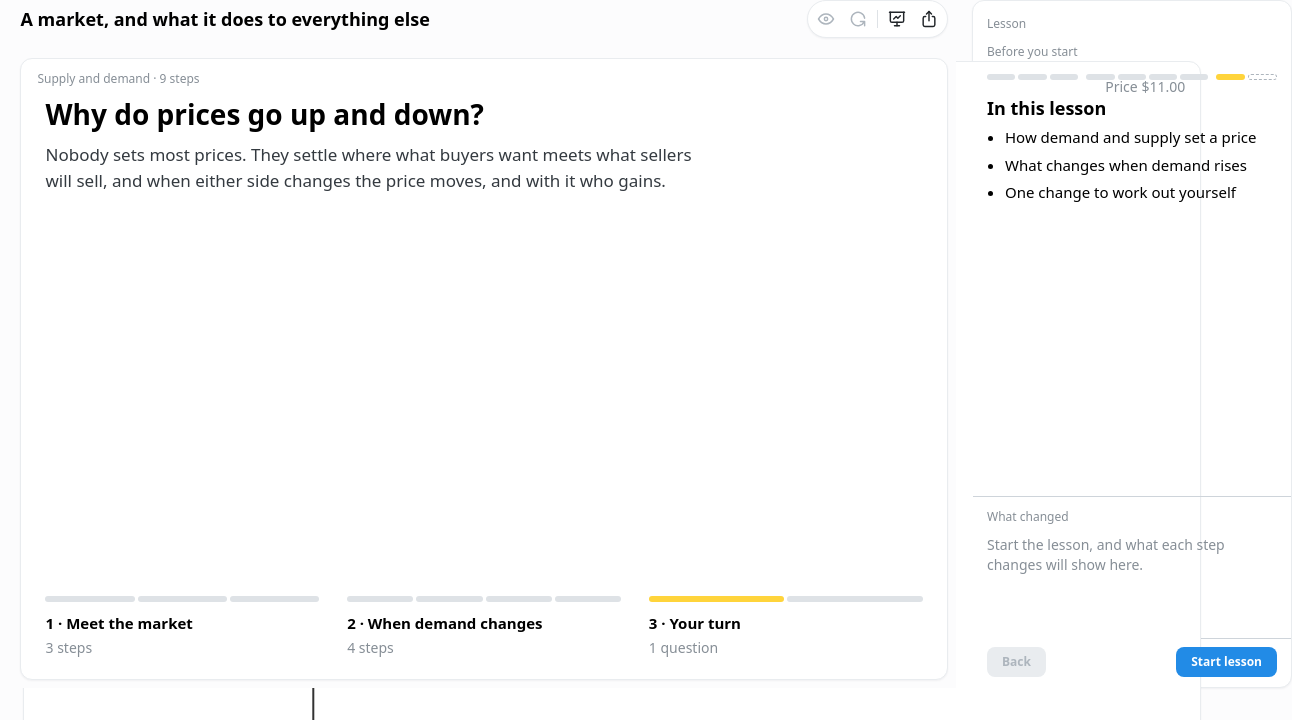
Scenario: the verdict reaches a student who cannot see the diagram › is announced from a live region that was already there
The image size is (1292, 720).
Step 1. Click the button named "Step 8 of 9: Incomes rise again" → coordinates (1231, 77), box top-left (1216, 67), bottom-right (1245, 87)
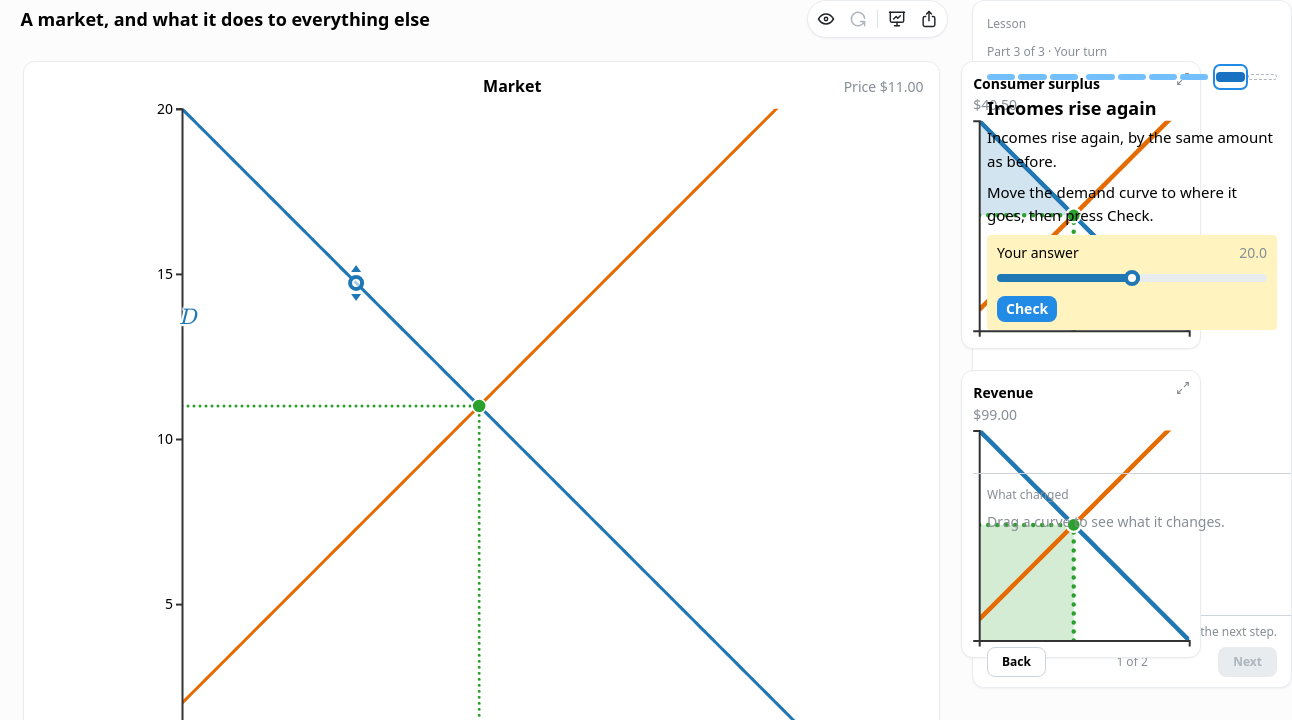
Step 2. Click the button "Check" → coordinates (1027, 309), box top-left (997, 296), bottom-right (1057, 322)
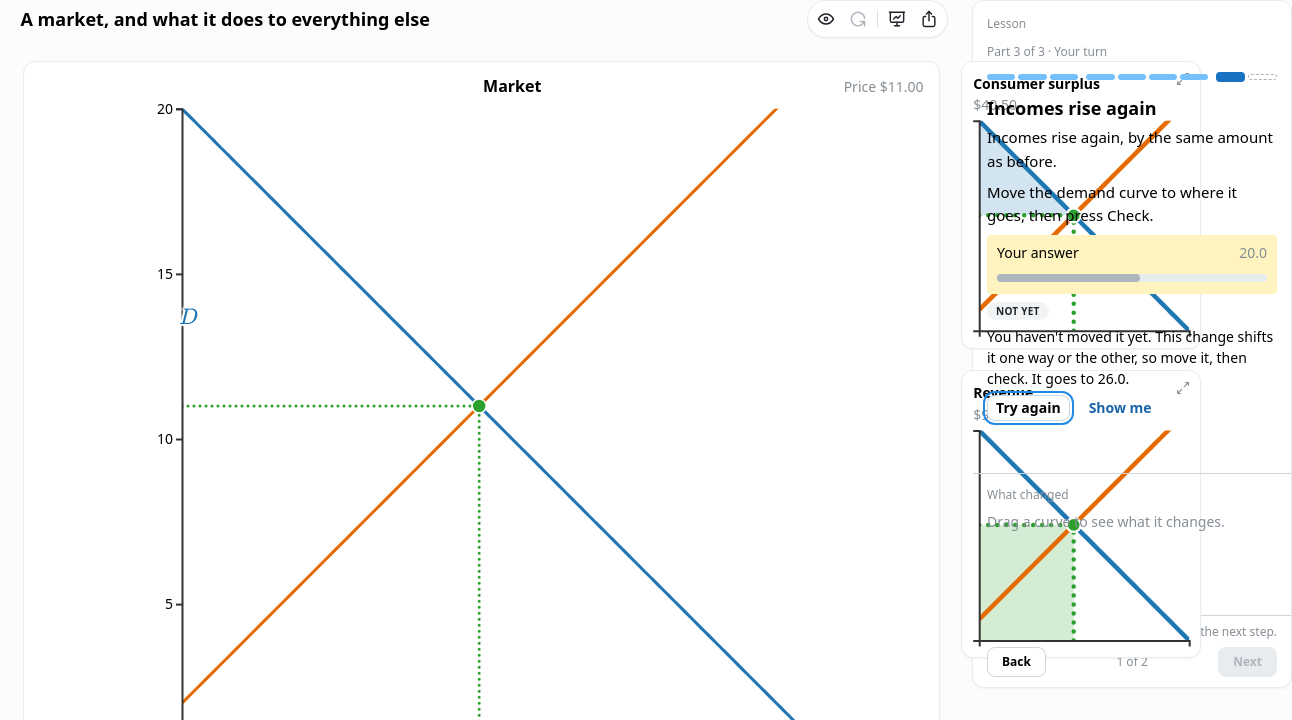
Expected: the message shows "haven't moved", top-left (987, 327), bottom-right (1273, 388)
